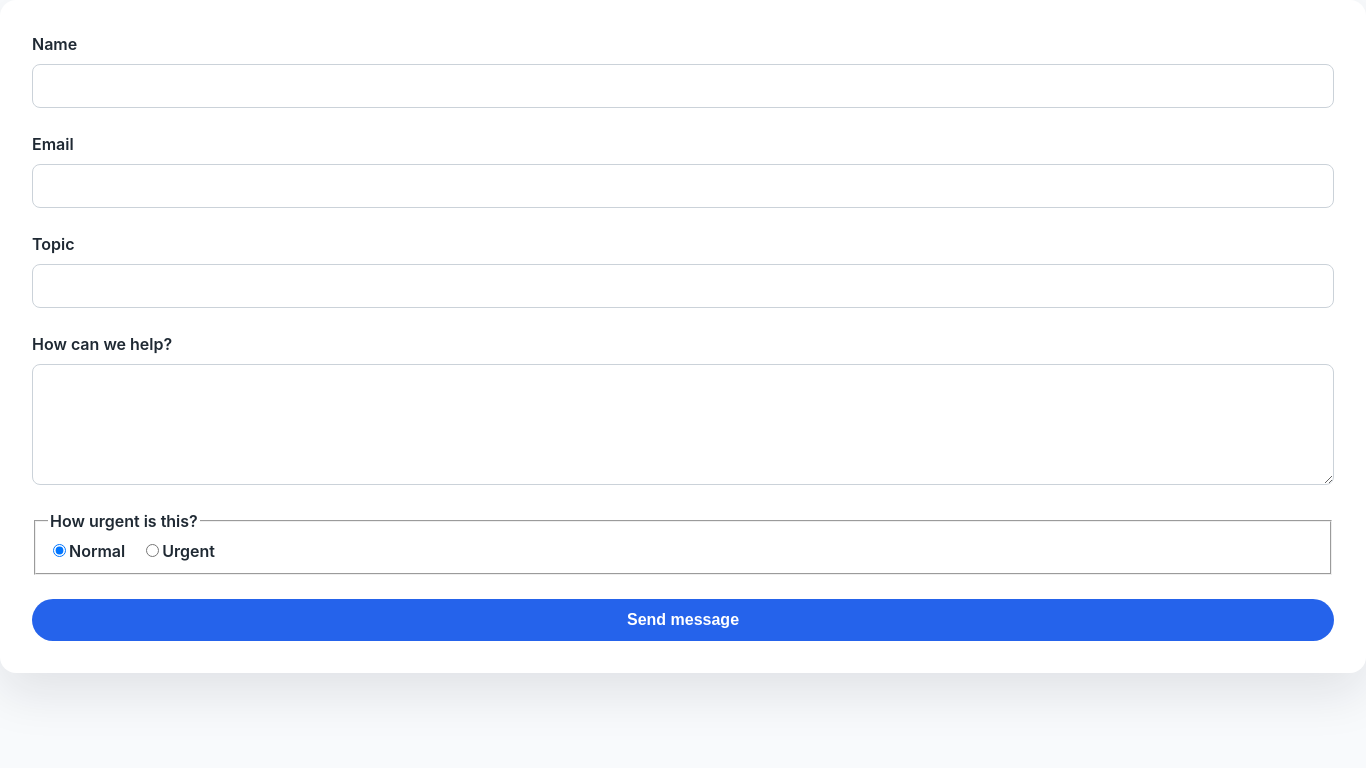
Test: SupportForm › submits successfully when fields are valid
Type "Ada Lovelace" into the field labelled "Name" at [683, 86], box [32,64,1334,108]
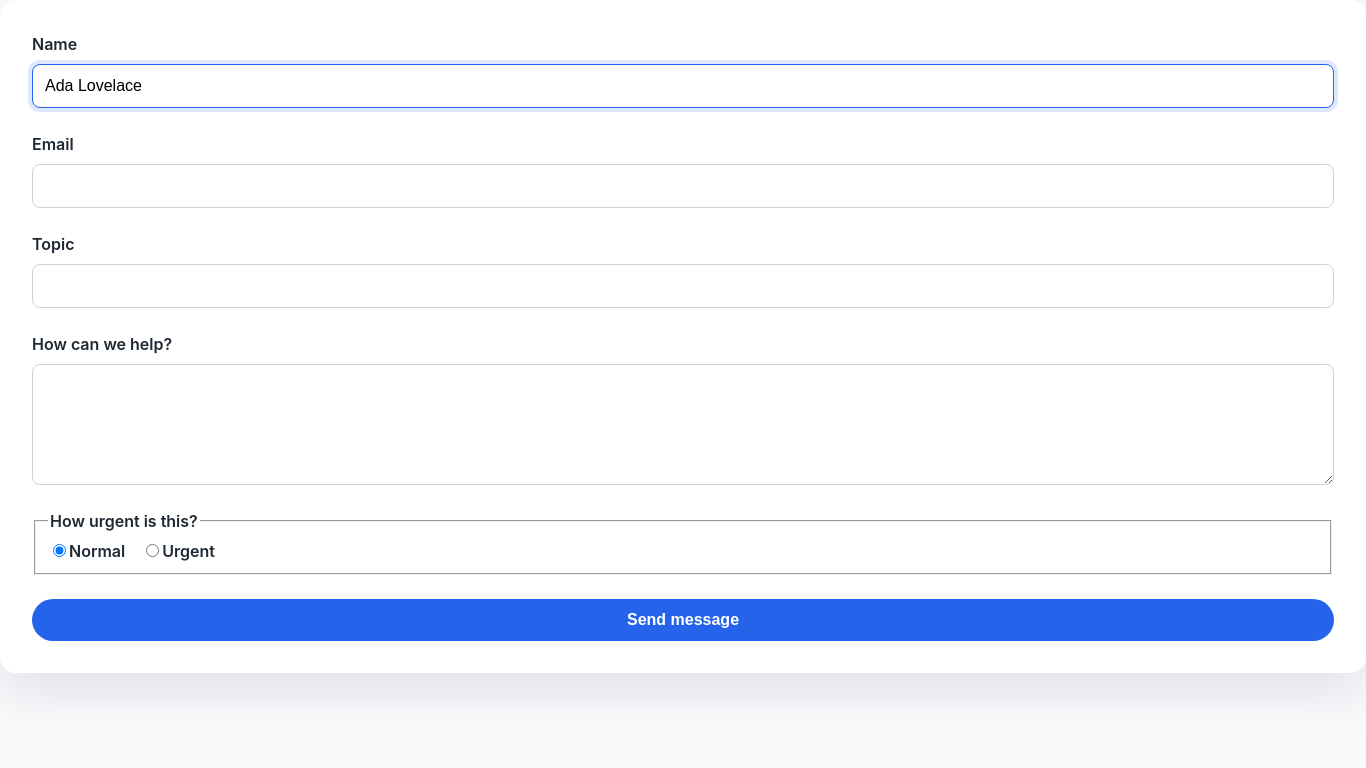
Type "ada@example.com" into the field labelled "Email" at [683, 186], box [32,164,1334,208]
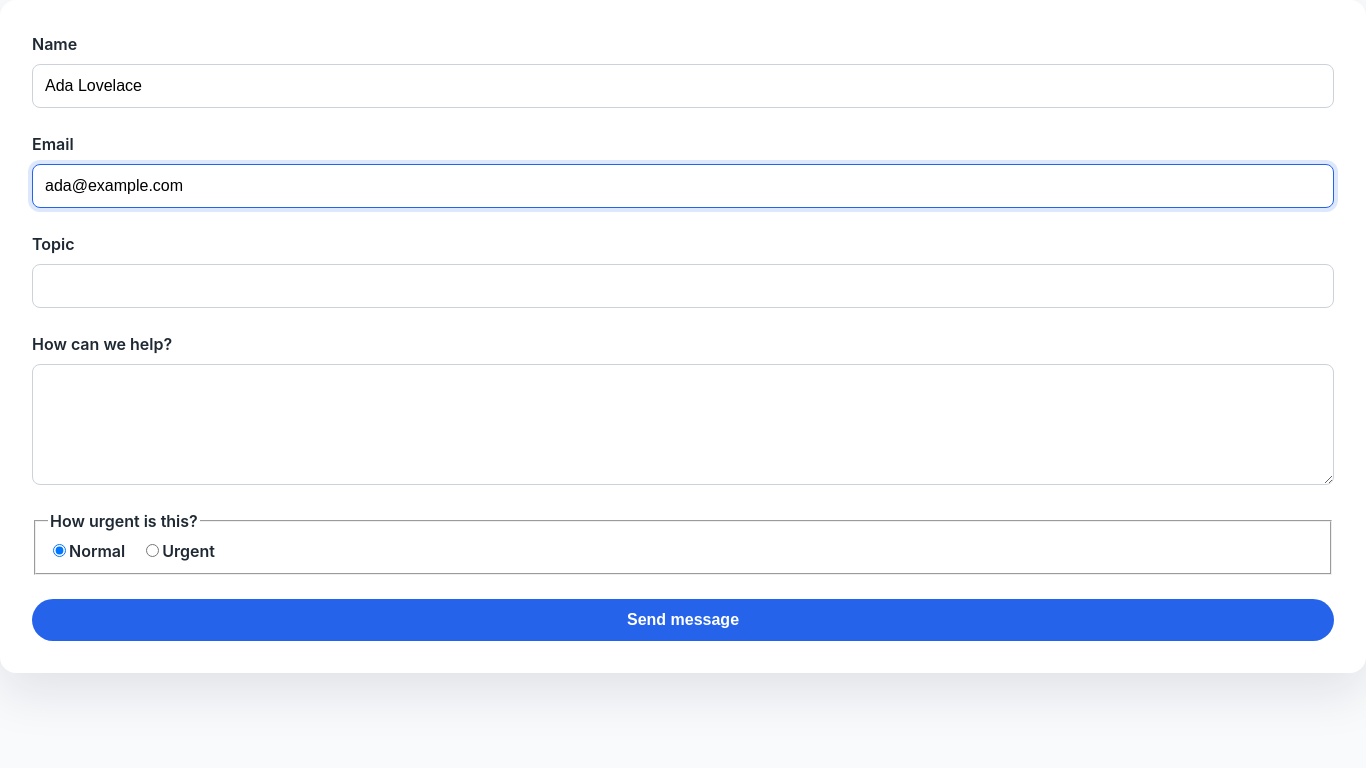
Type "Mock interviews" into the field labelled "Topic" at [683, 286], box [32,264,1334,308]
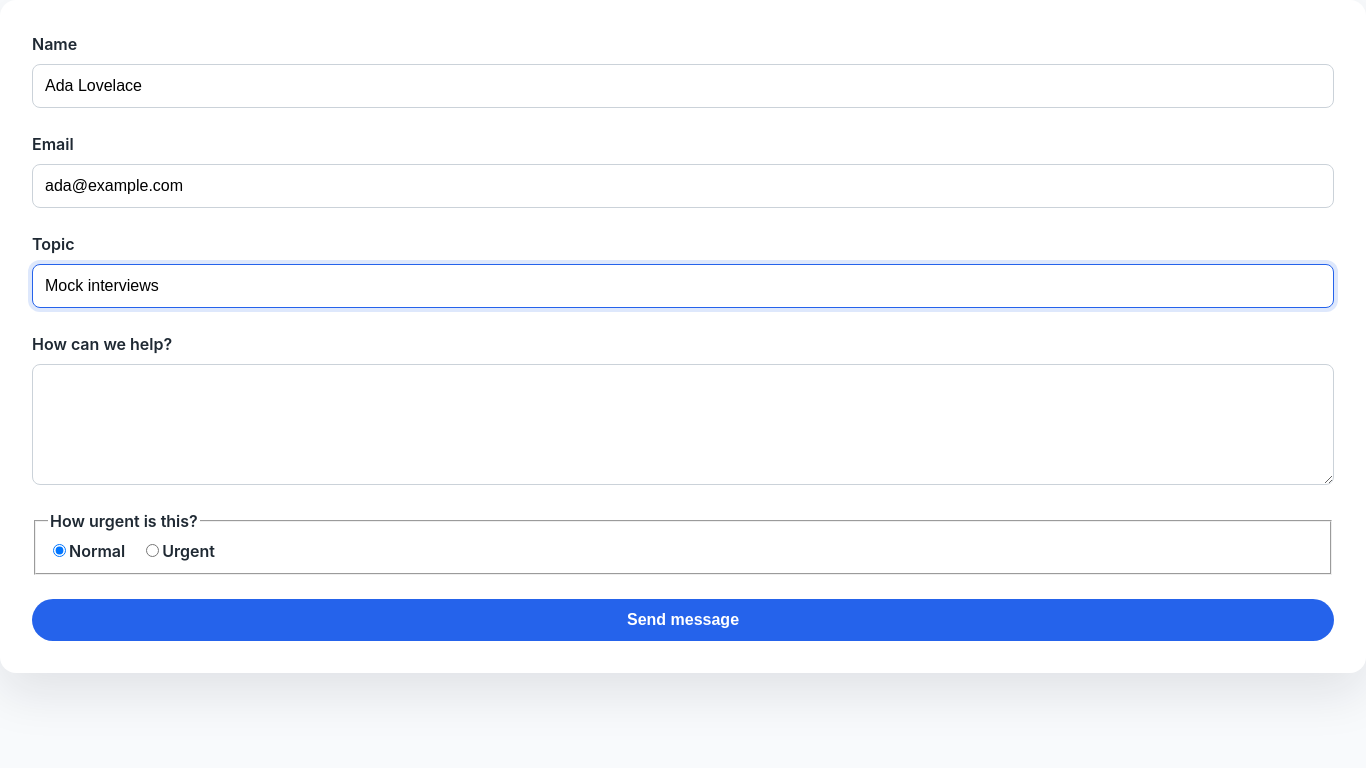
Type "Help me prepare for system design." into the text box labelled "How can we help?" at [683, 424], box [32,364,1334,485]
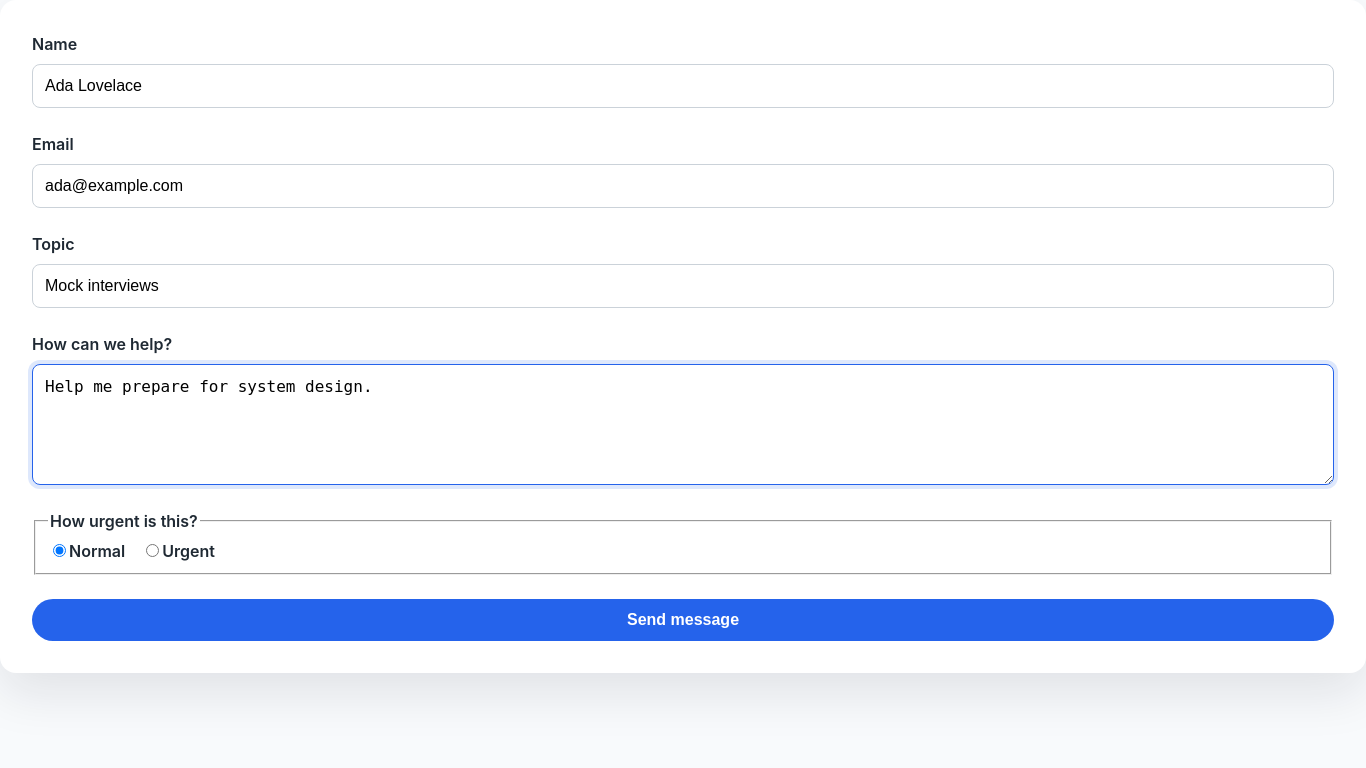
Click the radio button labelled "Urgent" at [153, 550], box [146,544,159,557]
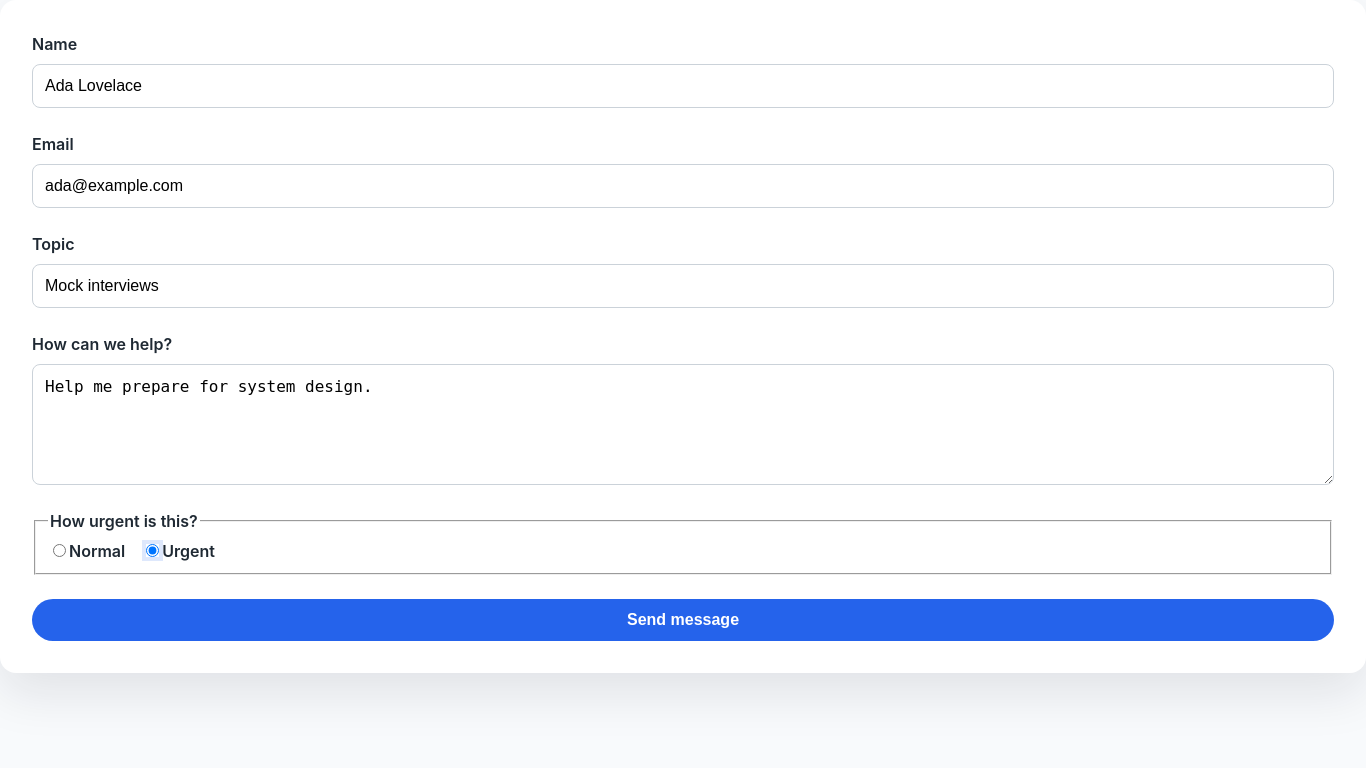
Click the button "Send message" at [683, 620], box [32,599,1334,641]
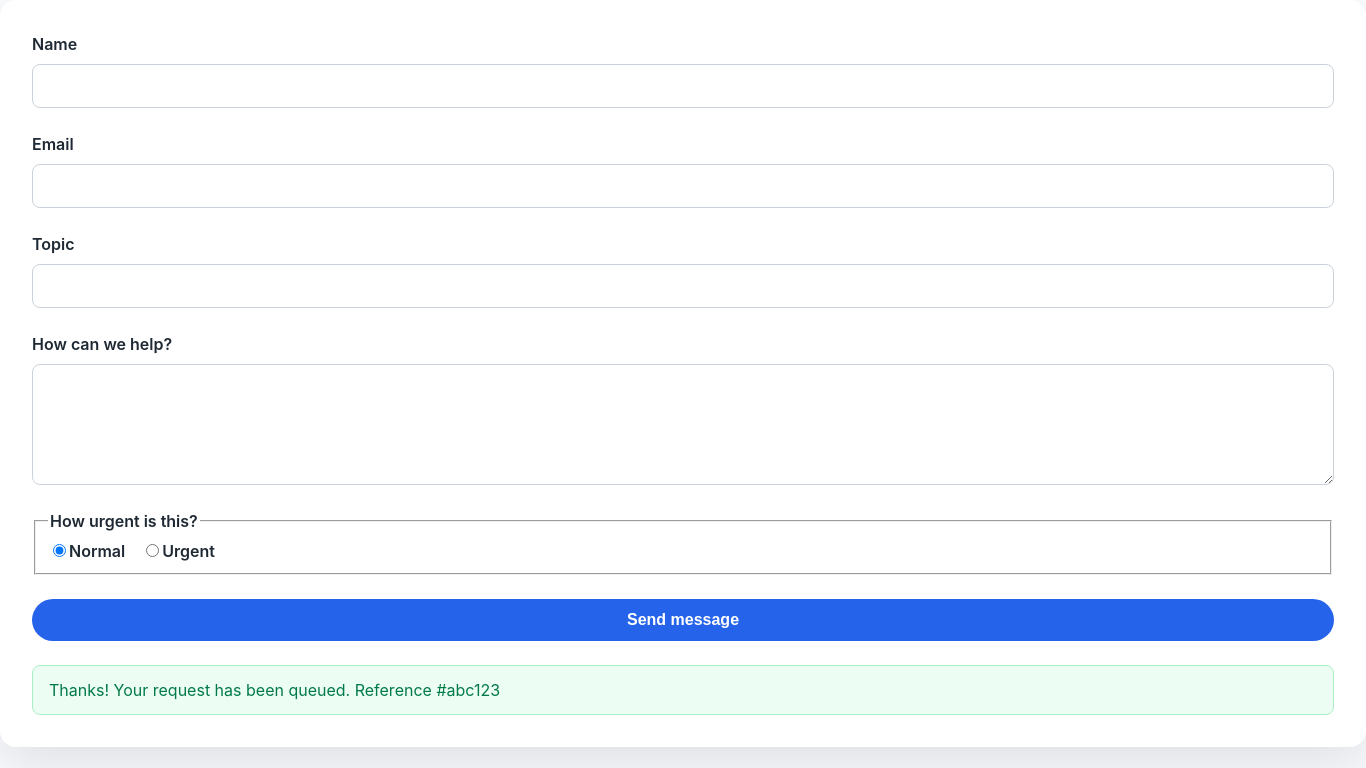
Expected: the text "Thanks! Your request has been queued. Reference #abc123" is shown, [32,665,1334,715]
